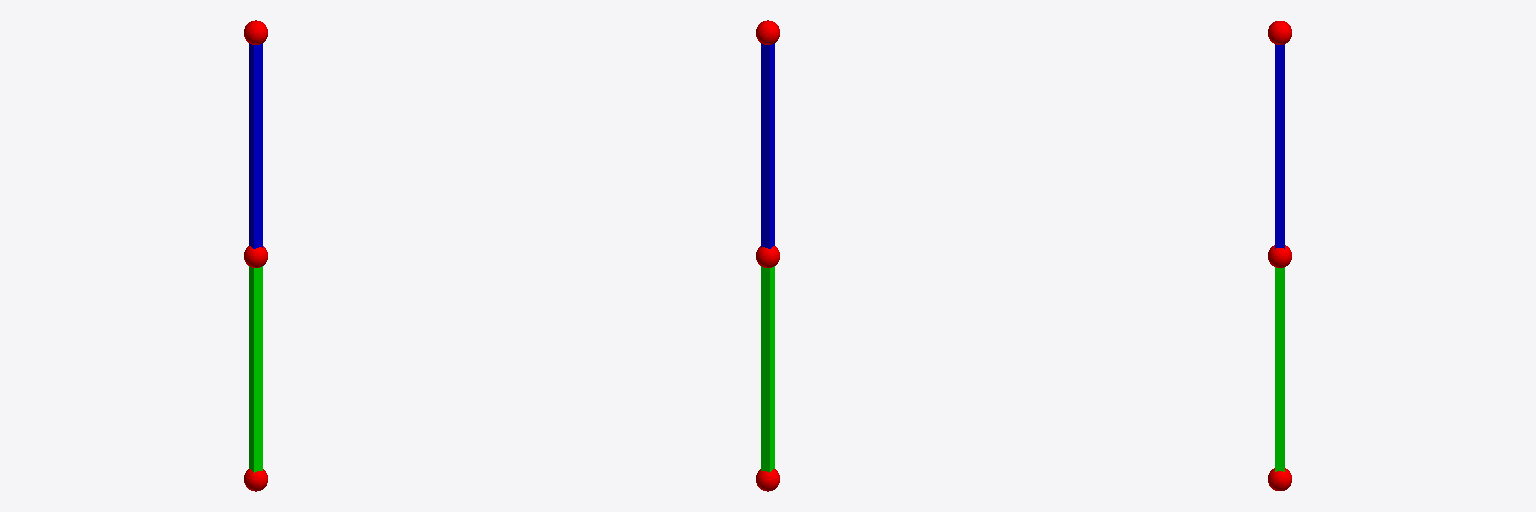
URDF robot description (acrobot):
<?xml version="1.0" ?>
<!-- Official OpenAI gym Acrobot model-->
<!-- https://github.com/openai/gym/blob/38a1f630dc9815a567aaf299ae5844c8f8b9a6fa/gym/envs/classic_control/acrobot.py  -->
<robot name="acrobot">
    <link name="world">
        <visual>
            <origin xyz="0.0 0.0 0.0" rpy="0.0 0.0 0.0" />
            <geometry>
                <sphere radius="0.05"/>
            </geometry>
            <material name="">
                <color rgba="1.0 0.0 0.0 1.0"/>
            </material>
        </visual>
        <inertial>
            <origin xyz="0.0 0.0 0.0" rpy="0.0 0.0 0.0"/>
            <mass value="0.0"/>
            <inertia ixx="0.0" ixy="0.0" ixz="0.0" iyy="0.0" iyz="0.0" izz="0.0"/>
        </inertial>
    </link>
    <joint name="FirstArmJoint" type="continuous">
      <origin xyz="0.0 0.0 0.0" rpy="0.0 3.14159 0.0"/>
      <axis xyz="0 1 0"/>
      <parent link="world"/>
      <child link="FirstArm"/>
      <limit effort="1000.0" velocity="12.566"/> <!-- velocity=4*np.pi  -->
    </joint>
    <link name="FirstArm">
        <visual>
            <origin xyz="0.0 0.0 0.5" rpy="0.0 0.0 0.0" />
            <geometry>
                <box size="0.04 0.04 1.0"/>
            </geometry>
            <material name="">
                <color rgba="0.0 0.0 1.0 1.0"/>
            </material>
        </visual>
        <visual>
            <origin xyz="0.0 0.0 1.0" rpy="0.0 0.0 0.0" />
            <geometry>
                <sphere radius="0.05"/>
            </geometry>
            <material name="">
                <color rgba="1.0 0.0 0.0 1.0"/>
            </material>
        </visual>
        <inertial>
            <origin xyz="0.0 0.0 0.5" rpy="0.0 0.0 0.0"/>
            <mass value="1.0"/>
            <inertia ixx="0.0" ixy="0.0" ixz="0.0" iyy="1.0" iyz="0.0" izz="0.0"/>
        </inertial>
    </link>
    <joint name="SecondArmJoint" type="continuous">
      <origin xyz="0.0 0.0 1.0" rpy="0.0 0.0 0.0"/>
      <axis xyz="0 1 0"/>
      <parent link="FirstArm"/>
      <child link="SecondArm"/>
      <limit effort="1.0" velocity="28.274"/> <!-- velocity=9*np.pi  -->
    </joint>
    <link name="SecondArm">
        <visual>
            <origin xyz="0.0 0.0 0.5" rpy="0 0.0 0.0" />
            <geometry>
                <box size="0.04 0.04 1.0"/>
            </geometry>
            <material name="">
                <color rgba="0.0 1.0 0.0 1.0"/>
            </material>
        </visual>
        <visual>
            <origin xyz="0.0 0.0 1.0" rpy="0.0 0.0 0.0" />
            <geometry>
                <sphere radius="0.05"/>
            </geometry>
            <material name="">
                <color rgba="1.0 0.0 0.0 1.0"/>
            </material>
        </visual>
        <inertial>
            <origin xyz="0.0 0.0 0.5" rpy="0.0 0.0 0.0"/>
            <mass value="1.0"/>
            <inertia ixx="0.0" ixy="0.0" ixz="0.0" iyy="1.0" iyz="0.0" izz="0.0"/>
        </inertial>
    </link>
    <joint name="TipJoint" type="fixed">
      <origin xyz="0.0 0.0 1.0" rpy="0 0.0 0.0"/>
      <parent link="SecondArm"/>
      <child link="Tip"/>
    </joint>
    <link name="Tip"/>
</robot>

--- What the picture shows (computed from the rendered views, not written in the file) ---
Views: 3 orthographic renders of the robot side by side, from view 1: azimuth 30°, elevation 25°; view 2: azimuth 150°, elevation 25°; view 3: azimuth 270°, elevation 25°.
Model acrobot with 4 links and 3 joints (2 continuous, 1 fixed), rooted at world, posed all joints at 0.
Visible links, largest first — view 1: SecondArm, FirstArm; view 2: SecondArm, FirstArm; view 3: SecondArm, FirstArm.
Link boxes in pixels (left/top/right/bottom): SecondArm: left=244, top=266, right=267, bottom=491; FirstArm: left=244, top=43, right=267, bottom=267; SecondArm: left=756, top=266, right=779, bottom=491; FirstArm: left=756, top=43, right=779, bottom=267; SecondArm: left=1268, top=267, right=1291, bottom=490; FirstArm: left=1268, top=44, right=1291, bottom=267.
Size in the robot's own frame: 0.1 by 0.1 by 2.1 metres.
Geometry: primitives only (box / cylinder / sphere), no mesh files.
